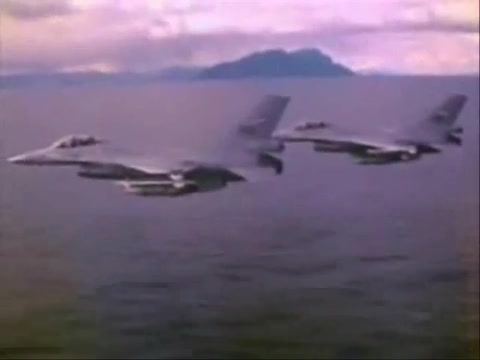aeroplane: (6, 93, 291, 197)
